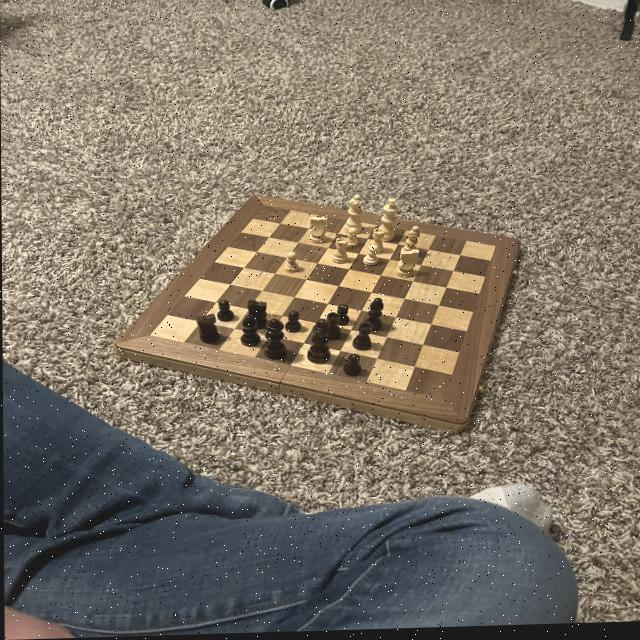bishop: (238, 314, 262, 351), (363, 297, 385, 336)
black-bishop: (303, 318, 332, 369)
black-king: (193, 313, 223, 348), (244, 299, 269, 331)
black-knight: (341, 356, 364, 380), (217, 301, 236, 324), (284, 311, 302, 335), (335, 305, 350, 329)
black-pawn: (261, 319, 288, 365)
black-queen: (349, 323, 375, 353), (325, 313, 343, 343)
black-rook: (396, 227, 422, 260)
white-king: (394, 250, 418, 282), (306, 217, 328, 247)
white-knight: (281, 251, 302, 276), (362, 246, 382, 269), (342, 228, 361, 251)
white-pawn: (372, 196, 400, 245), (340, 195, 367, 238)
white-queen: (367, 229, 386, 259), (330, 239, 350, 267)
